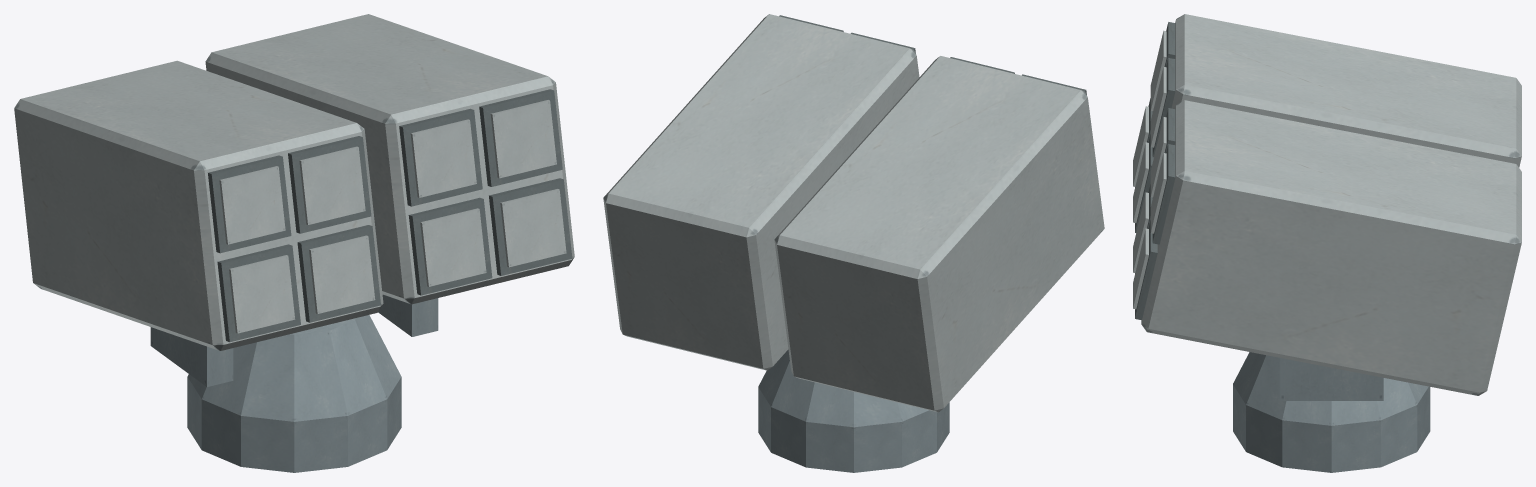
Rendered from mount_spruance_seasparrow_metric.glb.
3 renders of one model, left to right at view 1: azimuth 30°, elevation 25°; view 2: azimuth 150°, elevation 25°; view 3: azimuth 270°, elevation 25°, orthographic. The views are drawn at different scales.
Visible parts, largest first — view 1: MESH_SPRUANCE_TEMPLATE_seasparrow.002; view 2: MESH_SPRUANCE_TEMPLATE_seasparrow.002; view 3: MESH_SPRUANCE_TEMPLATE_seasparrow.002.
Part boxes in pixels (x1,y1,x2,y2): MESH_SPRUANCE_TEMPLATE_seasparrow.002: [14, 14, 574, 472]; MESH_SPRUANCE_TEMPLATE_seasparrow.002: [603, 14, 1104, 472]; MESH_SPRUANCE_TEMPLATE_seasparrow.002: [1133, 14, 1521, 472].
Size of the model in its own units: 3.71 by 3.59 by 3.74.
Materials: 1 (1 with a texture image).
